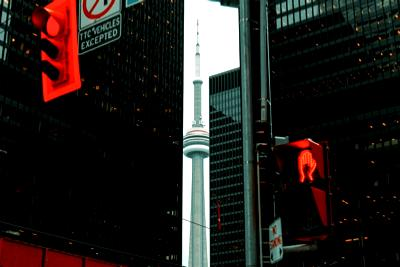International Road Signal Light: (273, 137, 333, 243), (39, 0, 82, 102)
